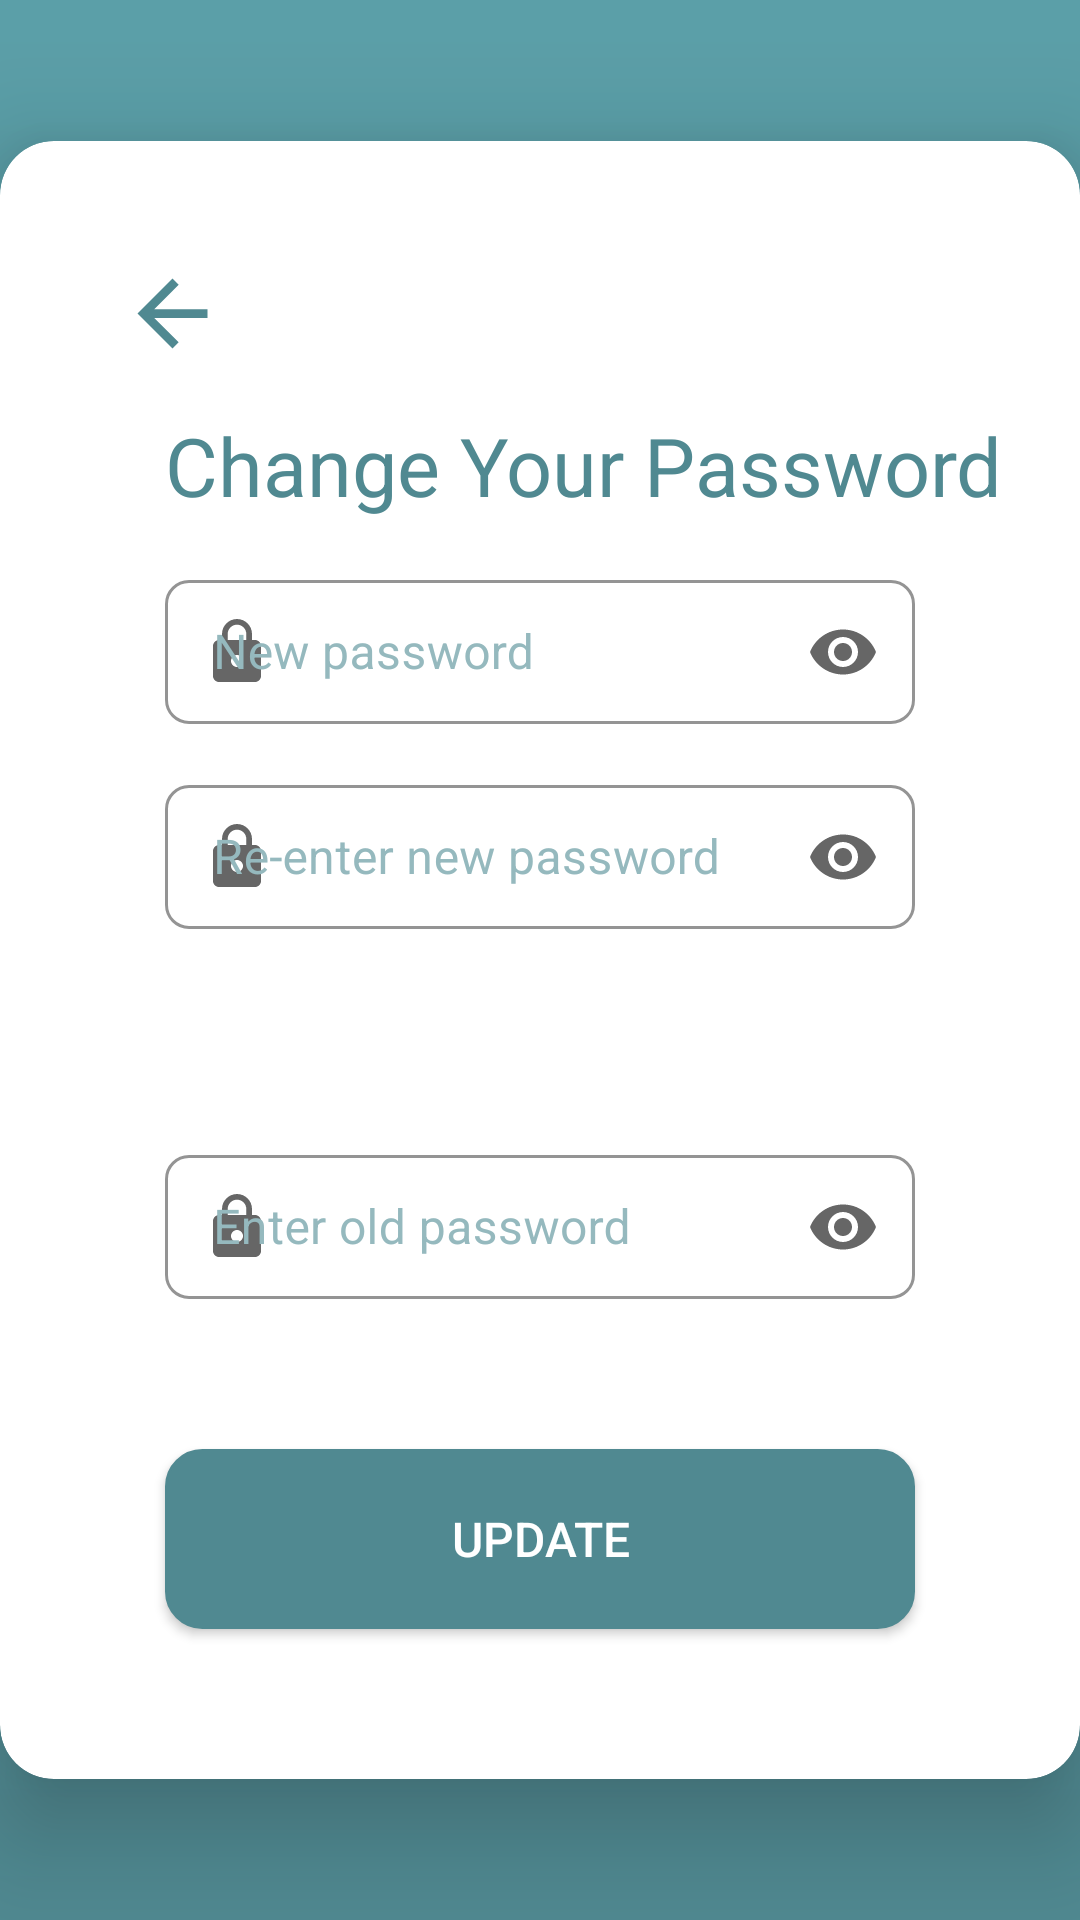

Icons on this 1080px x 1920px Android screen, each with the point to tap as (x=x, y=y):
back: (x=172, y=313)
